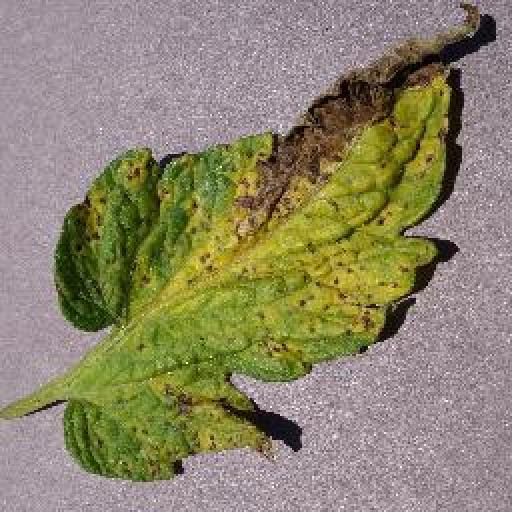Septoria: (52, 9, 454, 479)
